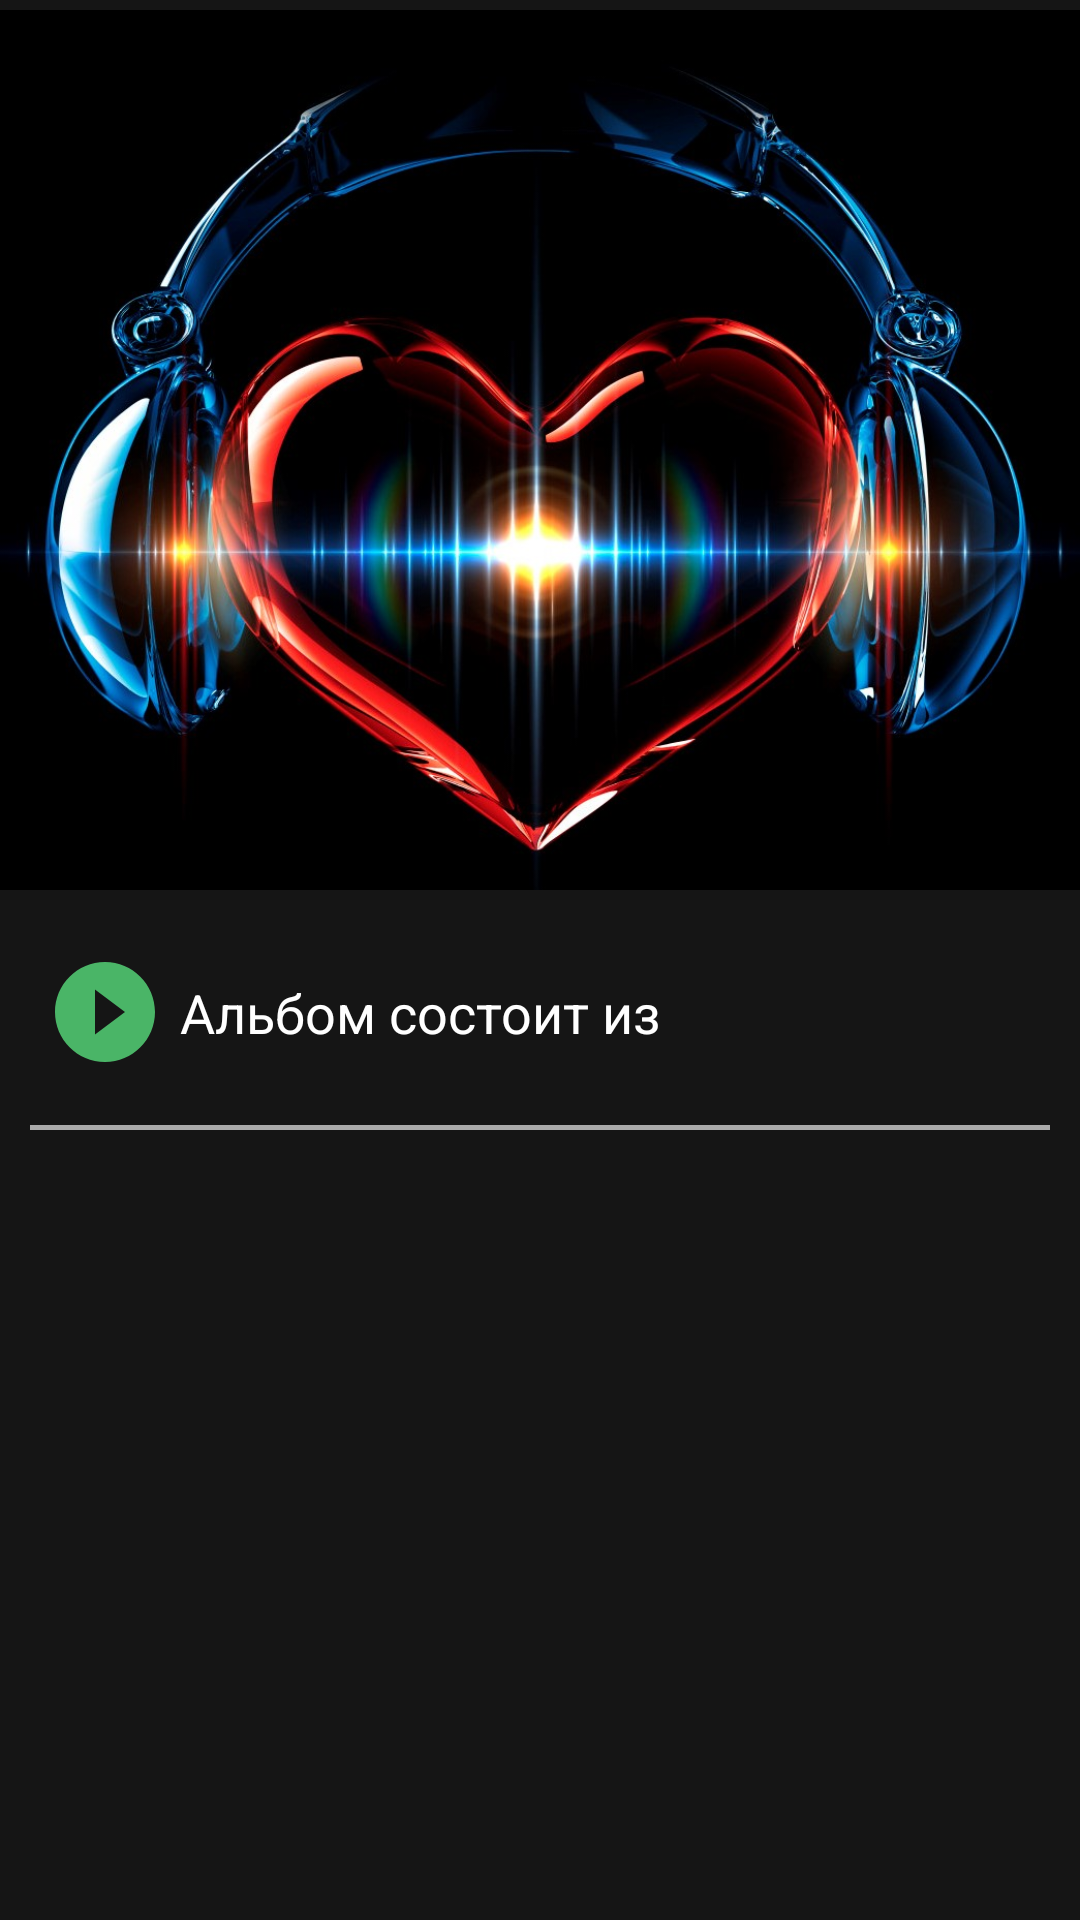

Icons on this 1080 × 1920 Android screen, each with its box as {"x1": x1, "y1": y1, "x2": x2, "y2": y2}:
play circle: {"x1": 55, "y1": 962, "x2": 155, "y2": 1062}
